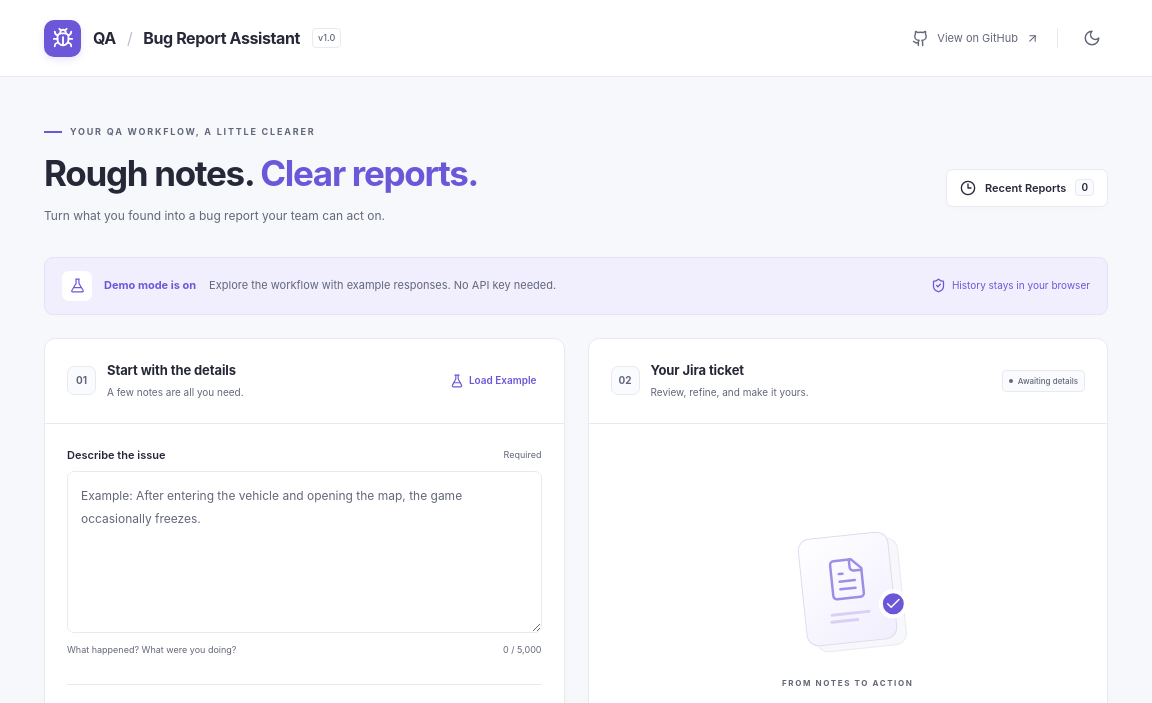
Scenario: report workflow › starts with an accessible empty state and validates short notes
Type "Crash" into the text box labelled "Describe the issue Required" at (304,552), box 67,471 -> 542,633
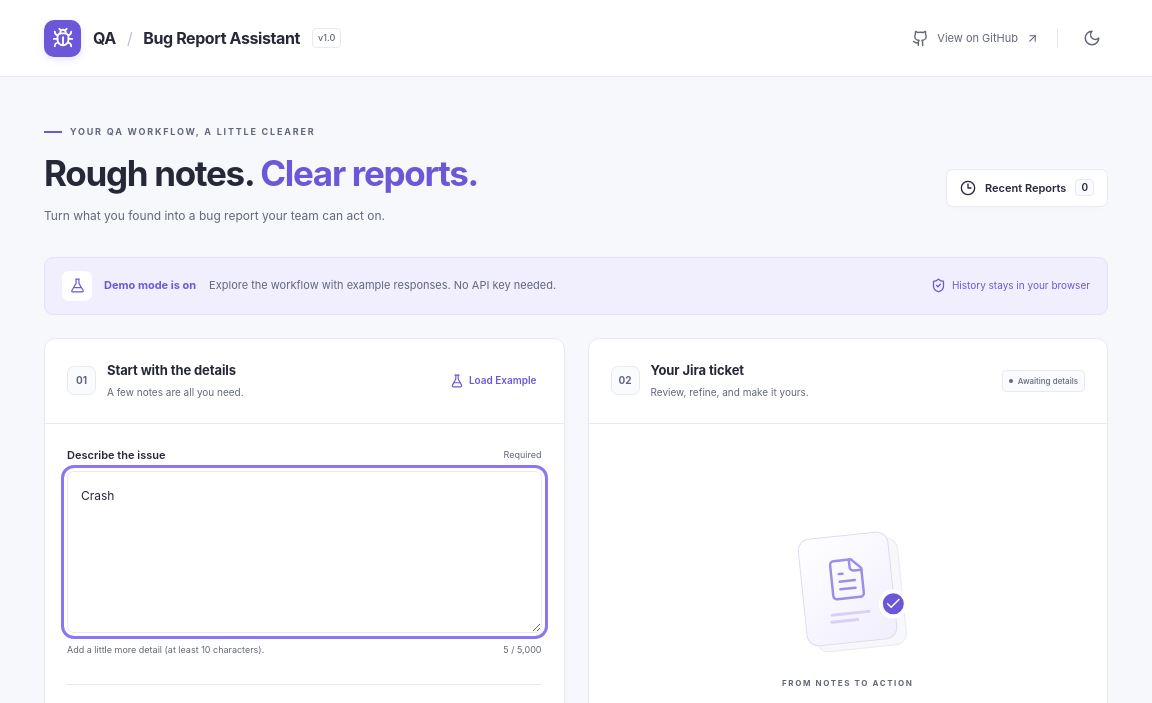
Check: the text "Add a little more detail (at least 10 characters)." is shown, box 67,643 -> 264,657
Check: the text "5 / 5,000" is shown, box 503,643 -> 542,657
